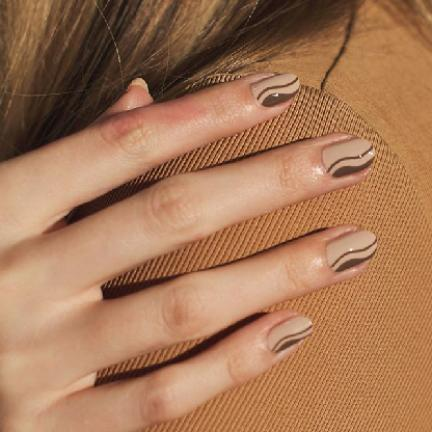Nail: (326, 230, 377, 272), (322, 138, 375, 177), (267, 316, 313, 353), (251, 73, 300, 106)
